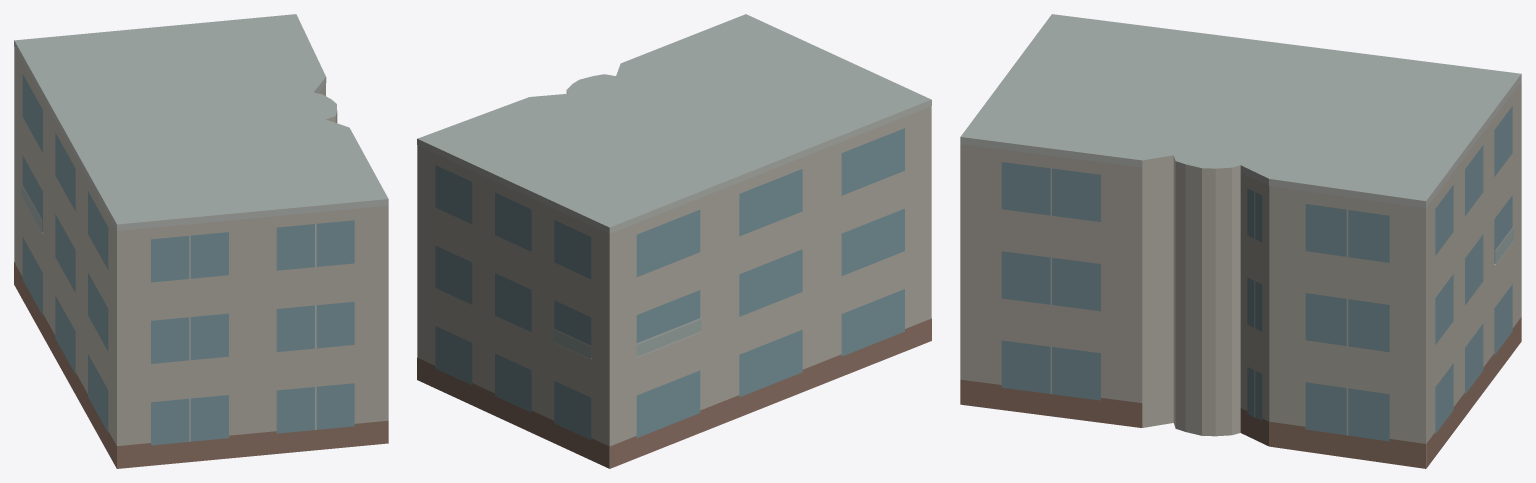
File: survey-upis-32999477.glb
3 views of the same model, side by side, from view 1: azimuth 30°, elevation 25°; view 2: azimuth 150°, elevation 25°; view 3: azimuth 270°, elevation 25° (orthographic). The views are drawn at different scales.
Parts seen in each view (by area): view 1: survey-upis-32999477.tmp; view 2: survey-upis-32999477.tmp; view 3: survey-upis-32999477.tmp.
Part boxes in pixels (x1,y1,x2,y2): survey-upis-32999477.tmp: [14, 14, 388, 468]; survey-upis-32999477.tmp: [417, 14, 931, 468]; survey-upis-32999477.tmp: [960, 14, 1521, 468].
Size of the model in its own units: 13.73 by 9.15 by 17.4.
